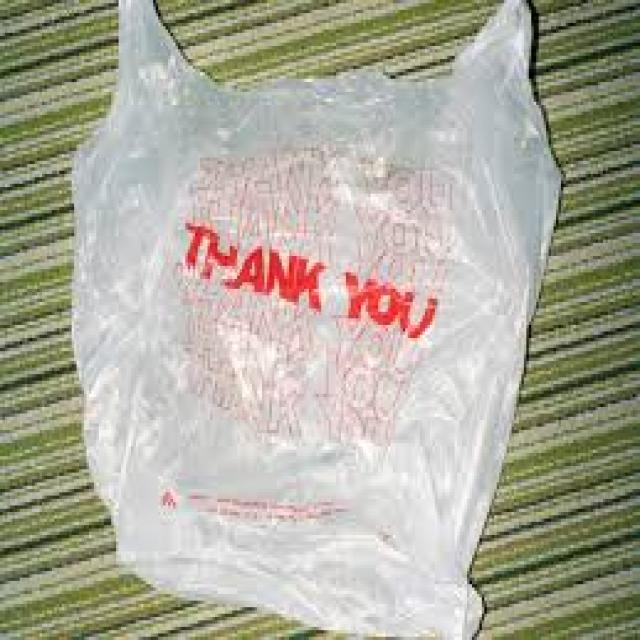plastic: (72, 0, 560, 636)
